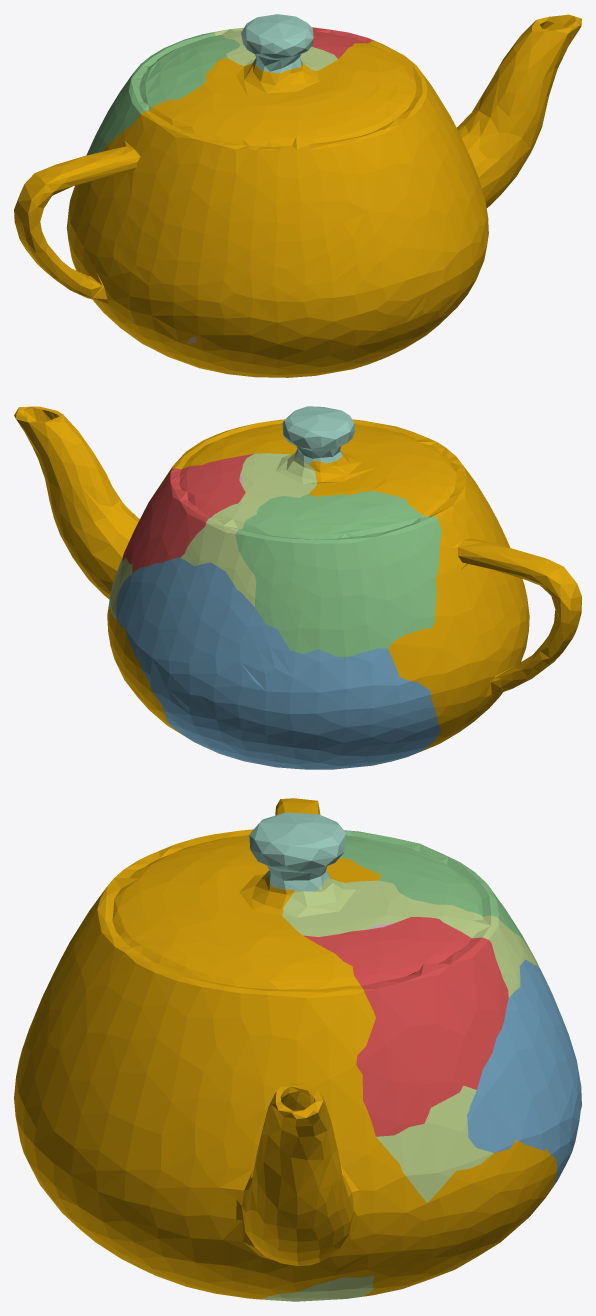
The model's file is mode_16_8pcs.glb.
The picture shows the model from 3 angles, top to bottom: view 1: azimuth 30°, elevation 25°; view 2: azimuth 150°, elevation 25°; view 3: azimuth 270°, elevation 25°; orthographic projection. The views are drawn at different scales.
Parts seen in each view (by area): view 1: piece_0.obj, piece_3.obj, piece_4.obj, piece_5.obj, piece_1.obj; view 2: piece_0.obj, piece_2.obj, piece_3.obj, piece_1.obj, piece_5.obj, piece_4.obj; view 3: piece_0.obj, piece_1.obj, piece_5.obj, piece_2.obj, piece_3.obj, piece_4.obj.
Part boxes in pixels (<box>): piece_0.obj: <box>14,14,581,377</box>; piece_3.obj: <box>86,32,240,155</box>; piece_4.obj: <box>241,14,313,73</box>; piece_5.obj: <box>213,27,337,70</box>; piece_1.obj: <box>311,27,374,58</box>; piece_0.obj: <box>14,406,581,750</box>; piece_2.obj: <box>116,557,441,769</box>; piece_3.obj: <box>235,491,441,657</box>; piece_1.obj: <box>122,454,253,573</box>; piece_5.obj: <box>108,452,317,618</box>; piece_4.obj: <box>282,406,355,463</box>; piece_0.obj: <box>14,798,556,1299</box>; piece_1.obj: <box>303,917,508,1136</box>; piece_5.obj: <box>260,877,539,1301</box>; piece_2.obj: <box>467,959,581,1202</box>; piece_3.obj: <box>340,830,539,967</box>; piece_4.obj: <box>249,812,346,891</box>.
Size of the model in its own units: 1 by 0.502 by 0.6513.
